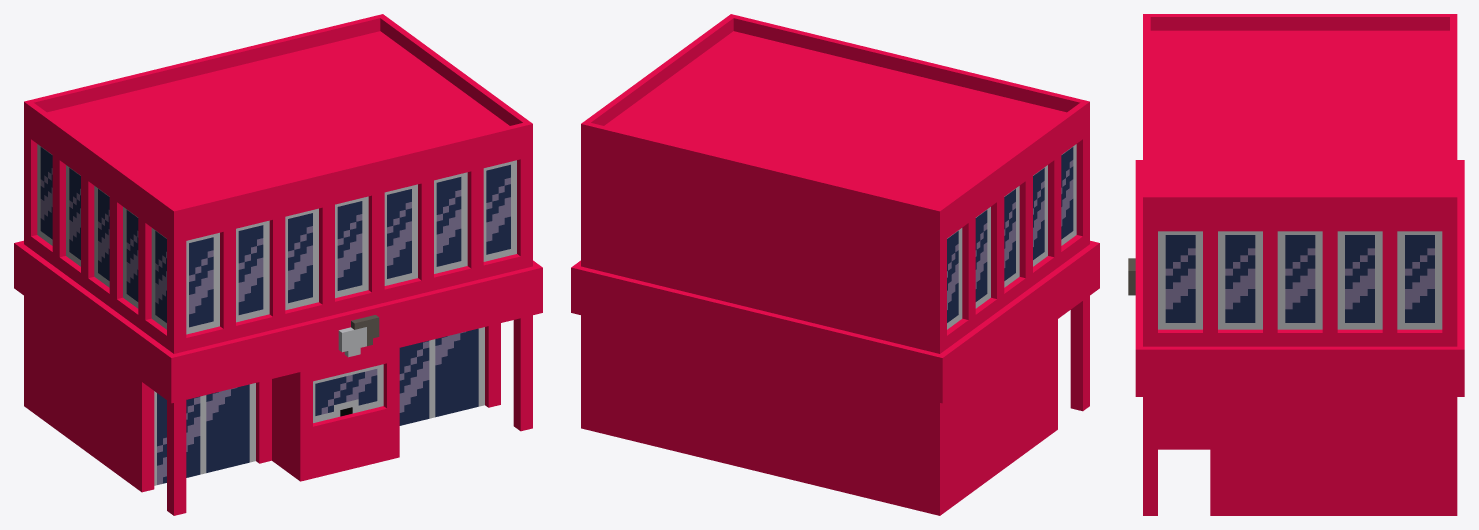
The model's file is theater_b.obj.
The picture shows the model from 3 angles, left to right: view 1: azimuth 30°, elevation 25°; view 2: azimuth 150°, elevation 25°; view 3: azimuth 270°, elevation 25°; orthographic projection. The views are drawn at different scales.
Bounding box in the file's own units: 6 × 4.7 × 4.5.
1 material, 1 textured.
